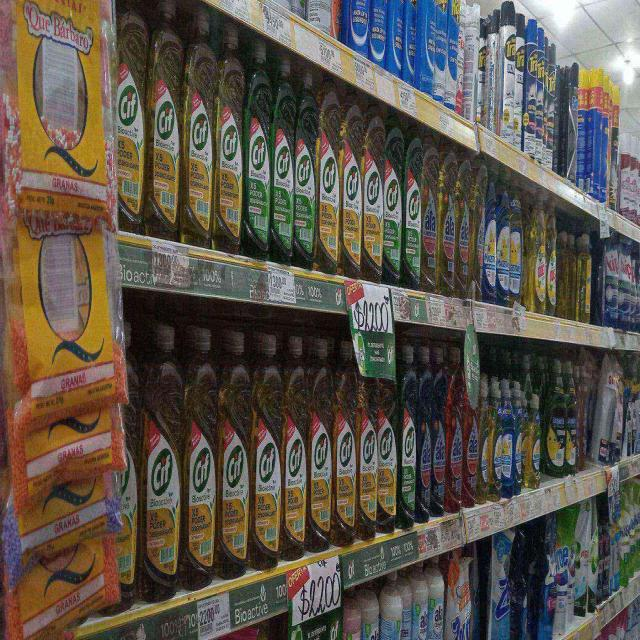ala_conc_amarillo: (438, 145, 455, 297)
ala_conc_azul: (418, 342, 432, 524), (432, 342, 446, 518)
ala_conc_rojo: (447, 342, 463, 514)
cif_conc_bot_amarilla: (141, 314, 182, 599), (184, 320, 217, 586), (218, 322, 250, 577), (148, 0, 181, 240), (183, 4, 214, 247), (251, 328, 282, 568), (215, 17, 243, 253), (283, 333, 308, 558), (308, 333, 332, 550), (334, 342, 356, 543), (317, 82, 340, 274), (341, 96, 362, 278), (357, 361, 377, 540), (363, 106, 383, 283)
cif_conc_botella_verde: (244, 35, 270, 259), (272, 52, 294, 265), (294, 65, 316, 268), (378, 346, 398, 532), (399, 342, 417, 529), (402, 128, 422, 289), (383, 117, 402, 284), (287, 597, 302, 640), (302, 594, 314, 640)
